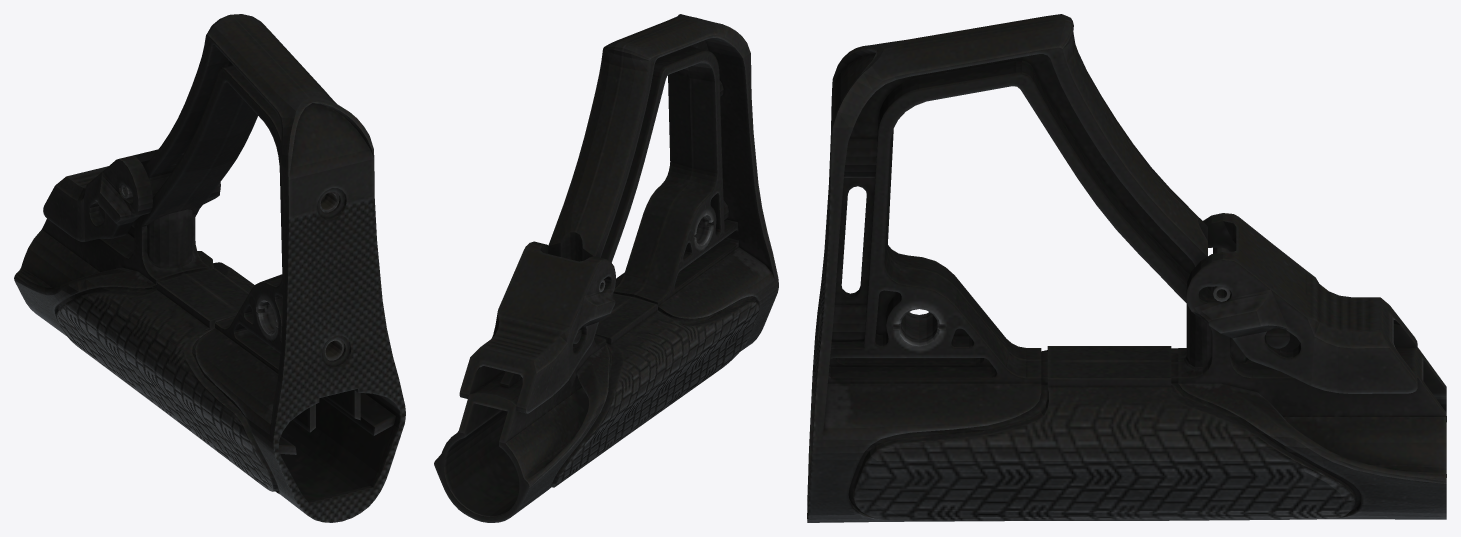
3 views of the same model, side by side, from view 1: azimuth 30°, elevation 25°; view 2: azimuth 150°, elevation 25°; view 3: azimuth 270°, elevation 25° (orthographic). The views are drawn at different scales.
Visible parts, largest first — view 1: TW_6516e91f609aaf354b34b3e2_PZ_Import; view 2: TW_6516e91f609aaf354b34b3e2_PZ_Import; view 3: TW_6516e91f609aaf354b34b3e2_PZ_Import.
Part boxes in pixels (x1=…): TW_6516e91f609aaf354b34b3e2_PZ_Import: x1=14, y1=14, x2=405, y2=522; TW_6516e91f609aaf354b34b3e2_PZ_Import: x1=434, y1=14, x2=778, y2=522; TW_6516e91f609aaf354b34b3e2_PZ_Import: x1=807, y1=14, x2=1446, y2=522.
Size of the model in its own units: 0.0279 by 0.094 by 0.0806.
Materials: 1 (1 with a texture image).
